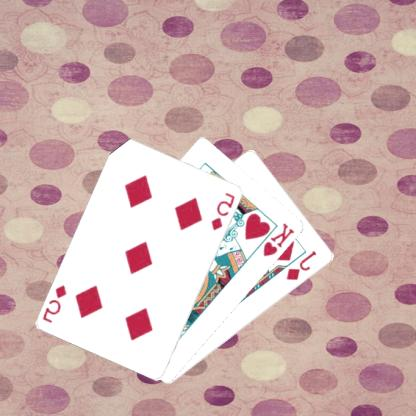5D: (210, 190, 238, 232), (42, 282, 70, 324)
JD: (286, 248, 320, 282)
KH: (262, 220, 298, 258)
